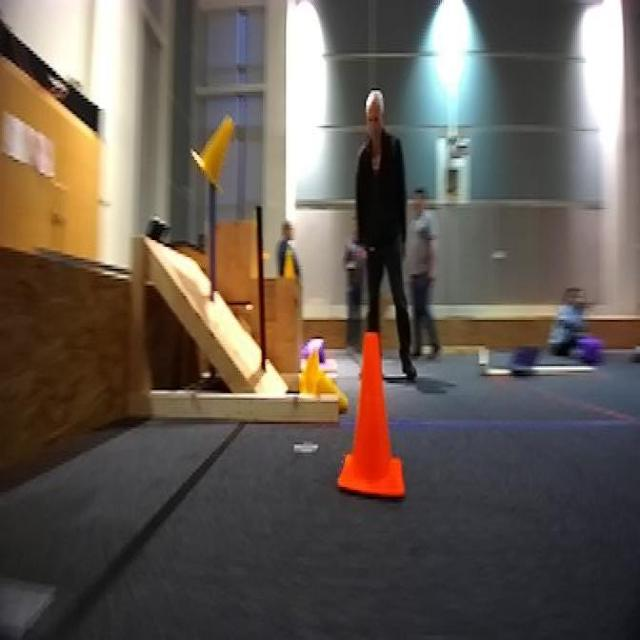frc_cone: (190, 109, 232, 196), (301, 354, 348, 403), (278, 250, 301, 291)
frc_cube: (576, 333, 598, 368), (301, 336, 323, 364)
